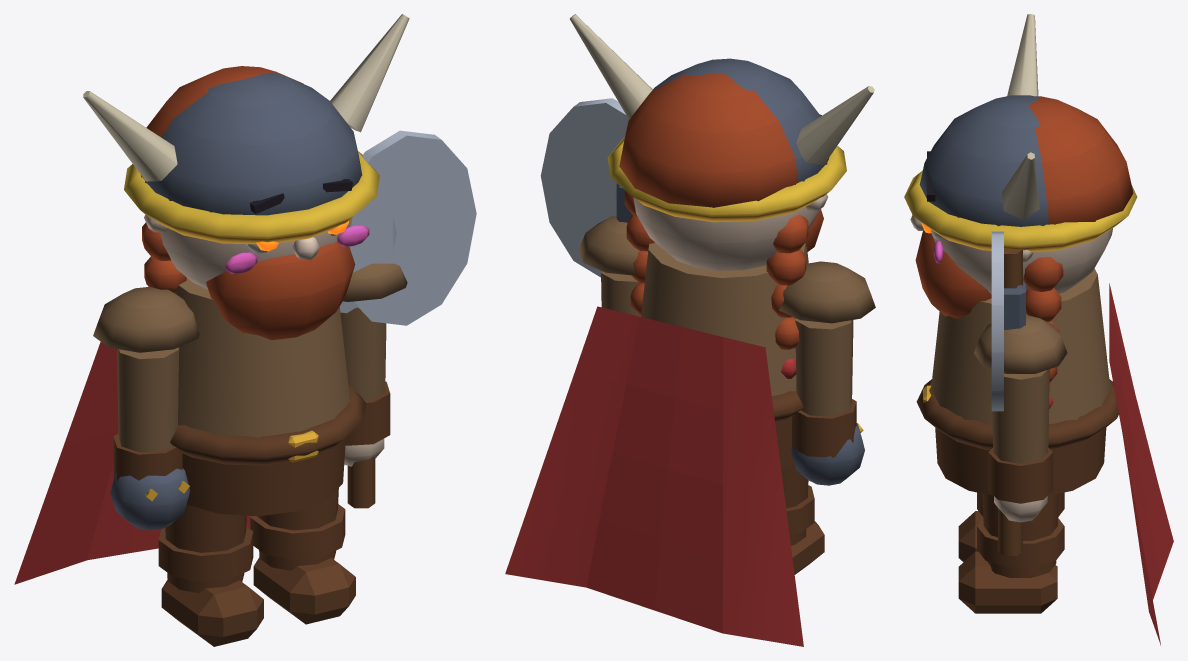
Rendered from hero_ragnar.glb.
3 views of the same model, side by side, from view 1: azimuth 30°, elevation 25°; view 2: azimuth 150°, elevation 25°; view 3: azimuth 270°, elevation 25° (orthographic). The views are drawn at different scales.
Parts seen in each view (by area): view 1: body_t0_palette, armr_t0_palette, arml_t0_palette, legl_t0_palette, legr_t0_palette; view 2: body_t0_palette, arml_t0_palette, armr_t0_palette, legl_t0_palette; view 3: body_t0_palette, armr_t0_palette, legr_t0_palette, legl_t0_palette.
Part boxes in pixels (left/top/right/bottom): body_t0_palette: left=14, top=14, right=409, bottom=584; armr_t0_palette: left=339, top=130, right=476, bottom=508; arml_t0_palette: left=93, top=287, right=199, bottom=530; legl_t0_palette: left=158, top=504, right=263, bottom=646; legr_t0_palette: left=250, top=488, right=355, bottom=624; body_t0_palette: left=505, top=14, right=874, bottom=646; arml_t0_palette: left=778, top=261, right=875, bottom=485; armr_t0_palette: left=540, top=98, right=641, bottom=316; legl_t0_palette: left=781, top=455, right=824, bottom=574; body_t0_palette: left=904, top=14, right=1173, bottom=645; armr_t0_palette: left=974, top=231, right=1067, bottom=555; legr_t0_palette: left=958, top=493, right=1064, bottom=613; legl_t0_palette: left=958, top=492, right=1064, bottom=561.
Bounding box in the file's own units: 0.372 × 0.5326 × 0.259.
